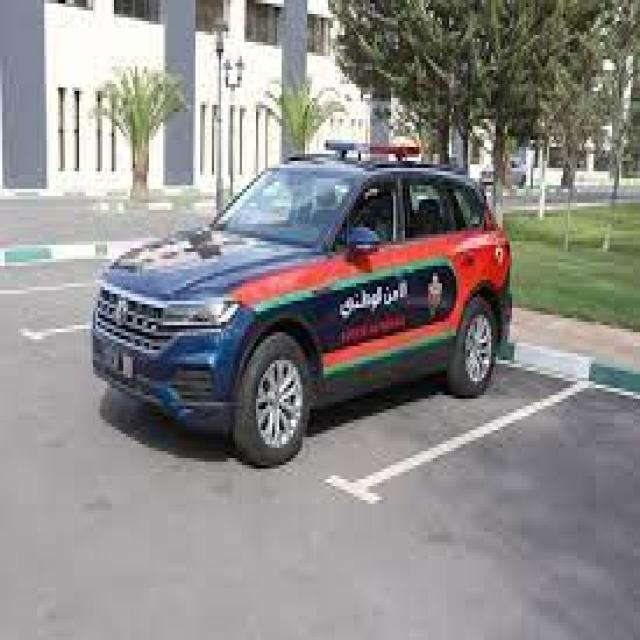Police car: (90, 128, 516, 473)
